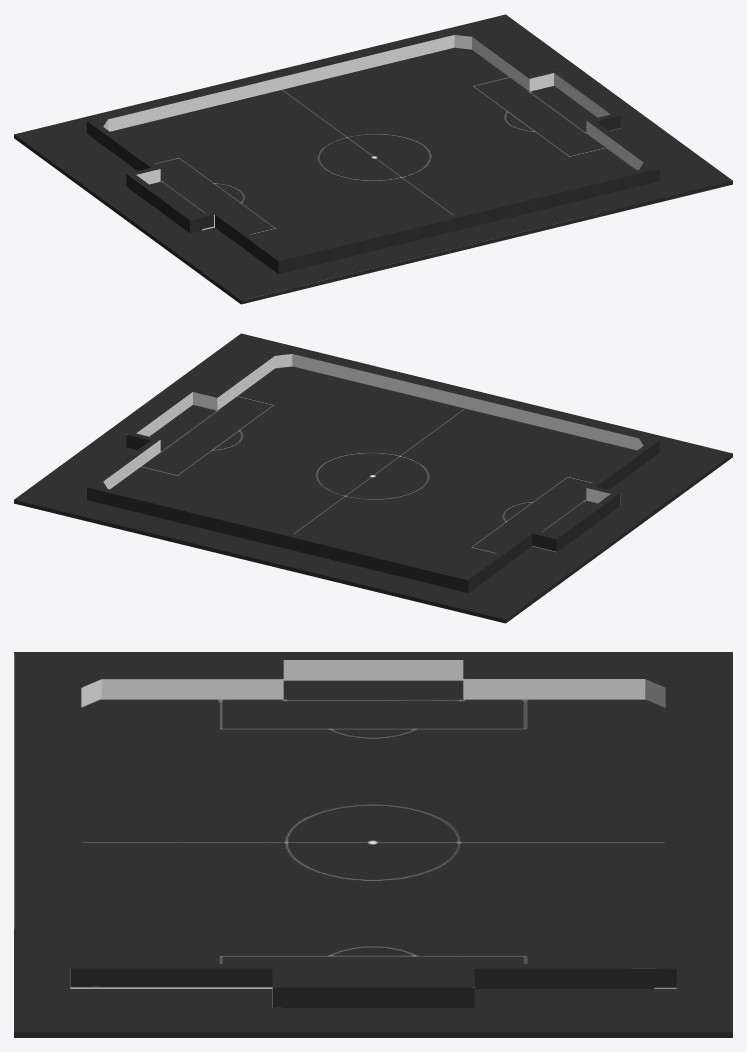
The model's file is court.dae.
3 renders of one model, top to bottom at view 1: azimuth 30°, elevation 25°; view 2: azimuth 150°, elevation 25°; view 3: azimuth 270°, elevation 25°, orthographic. The views are drawn at different scales.
Visible parts, largest first — view 1: Campo; view 2: Campo; view 3: Campo.
Boxes of the visible parts, x1=… form: Campo: x1=14, y1=14, x2=732, y2=304; Campo: x1=14, y1=333, x2=732, y2=623; Campo: x1=14, y1=652, x2=732, y2=1037.
Size of the model in its own units: 2 by 1.6 by 0.065.
Materials: 1 (1 with a texture image).
